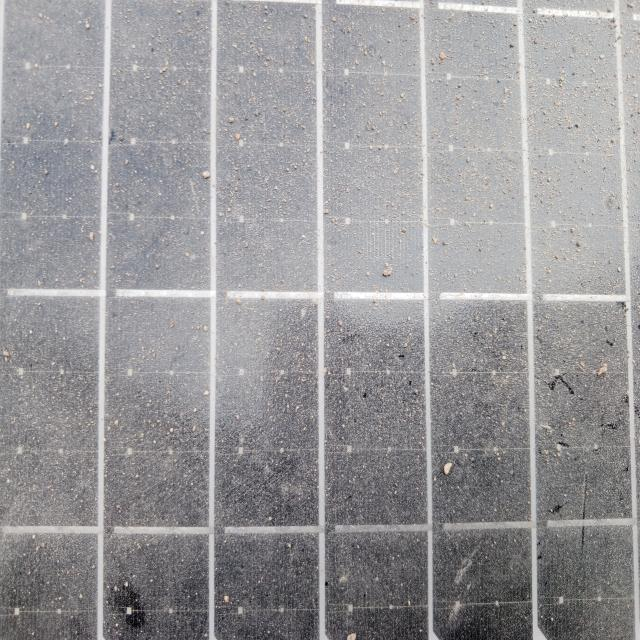Surface Contaminant: (15, 29, 630, 624)
